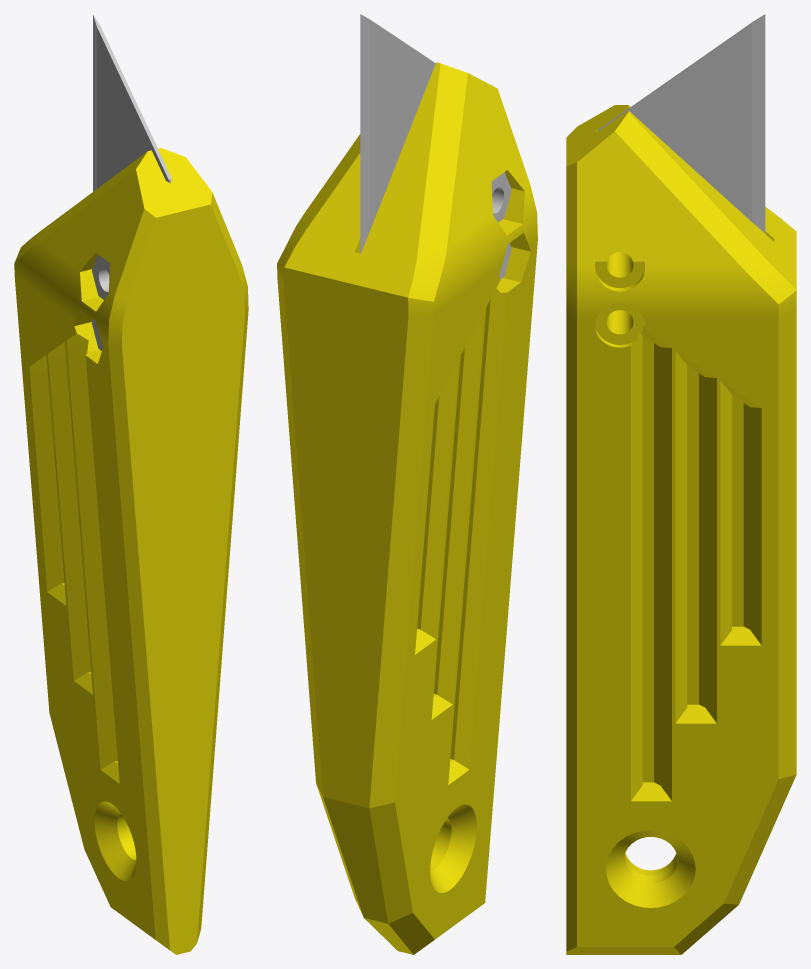
Rendered from uploads_files_2354861_cutter+v5.fbx.
3 views of the same model, side by side, from view 1: azimuth 30°, elevation 25°; view 2: azimuth 150°, elevation 25°; view 3: azimuth 270°, elevation 25° (orthographic). The views are drawn at different scales.
Parts seen in each view (by area): view 1: Body6, Body1 (×2); view 2: Body6, Body1 (×2); view 3: Body6, Body1.
Part boxes in pixels (box(x1,y1,x2,y2)): Body6: box(14, 148, 248, 954); Body1 (×2): box(92, 14, 171, 299); Body6: box(277, 62, 537, 954); Body1 (×2): box(360, 14, 511, 253); Body6: box(566, 105, 796, 954); Body1: box(597, 14, 765, 233).
Size of the model in its own units: 19.56 by 115 by 25.7.
